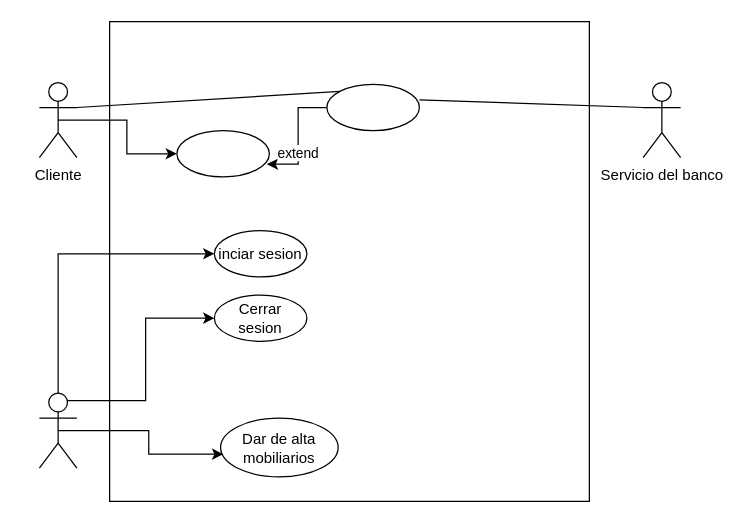
Image size: 745x524. Some labels were removed from this diagram. The shapes that lost their labels are listed below. From the top down, each one's centre as x and y in pixels, then its label:
At point (372, 107): "Pagar con tarjeta".
At point (222, 153): "Realizar reserva".
At point (57, 430): "Encargado".
